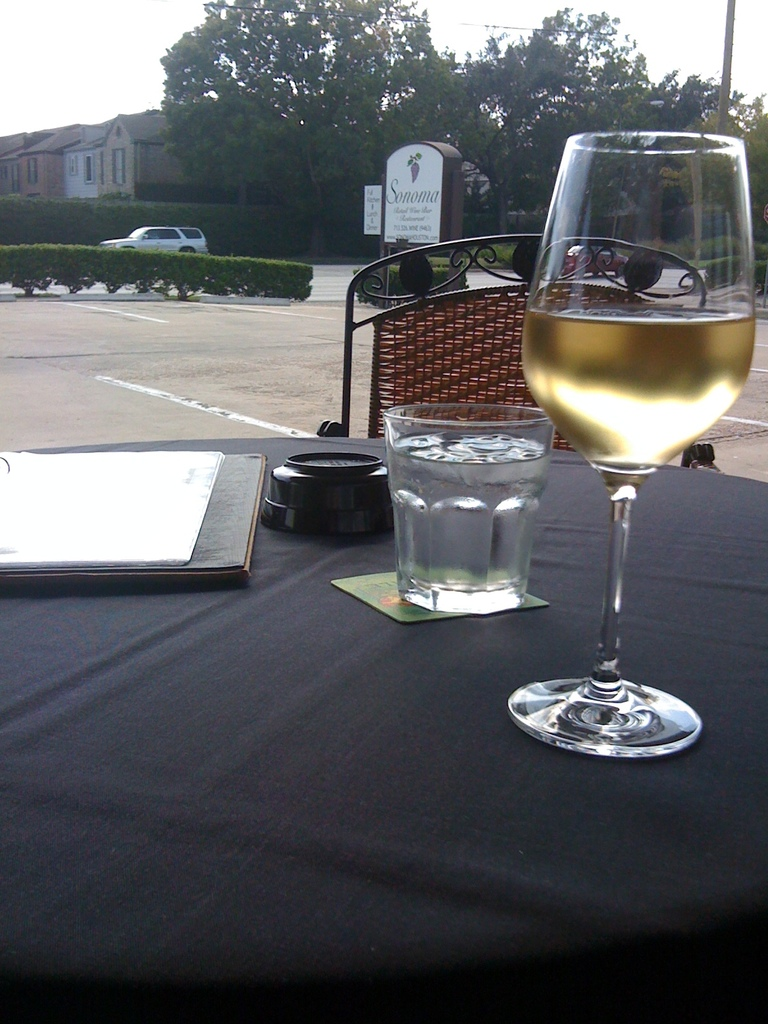Beer: (524, 318, 753, 469)
